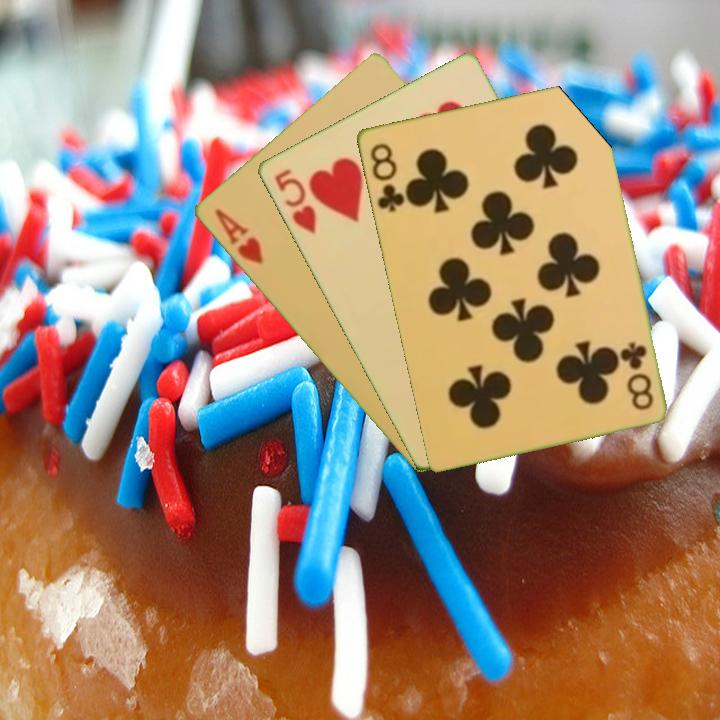5h: (270, 164, 319, 236)
8c: (366, 139, 407, 215), (617, 338, 656, 413)
Ah: (210, 205, 266, 268)
